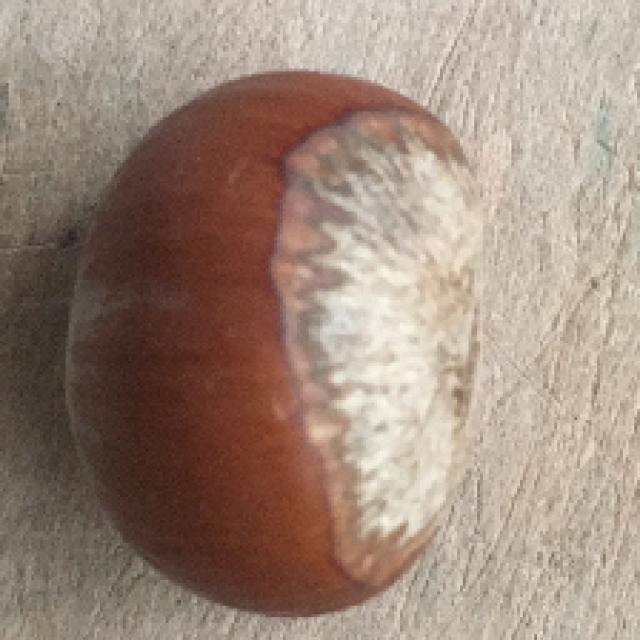qualityHazelnut: (62, 69, 485, 616)
